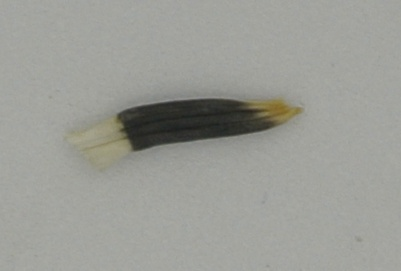เมล็ดดีติดกัน: (60, 87, 311, 173)
